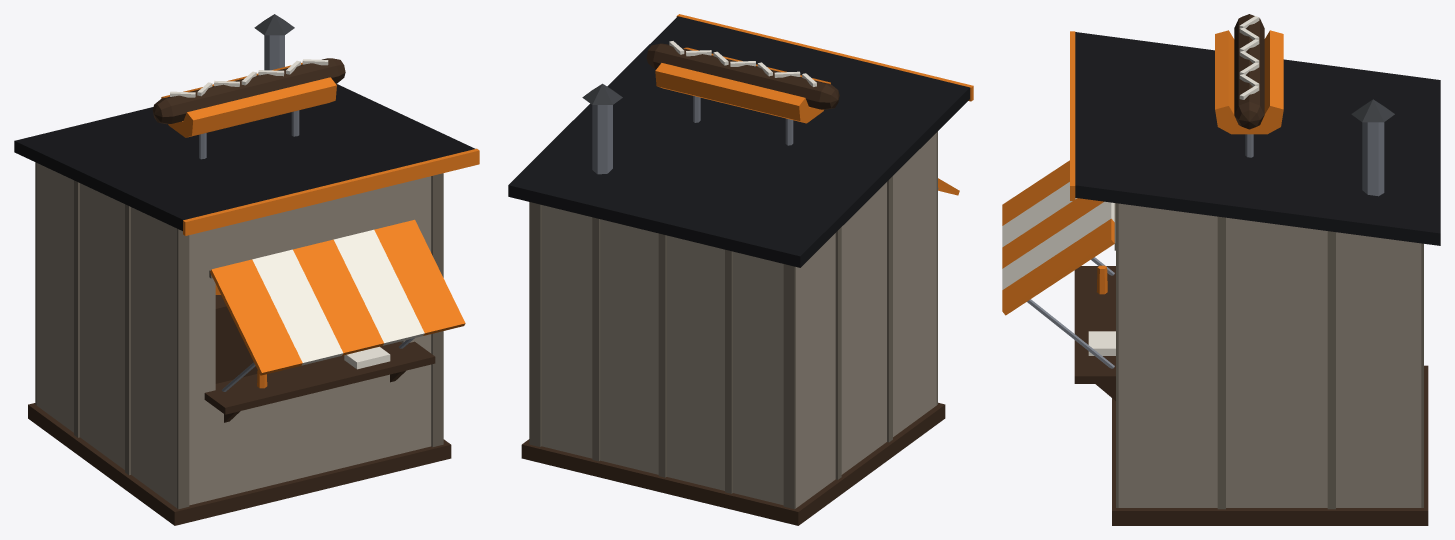
File: FoodStall02.fbx
3 renders of one model, left to right at view 1: azimuth 30°, elevation 25°; view 2: azimuth 150°, elevation 25°; view 3: azimuth 270°, elevation 25°, orthographic. The views are drawn at different scales.
Parts seen in each view (by area): view 1: FoodStall02_Festival_988E81, FoodStall02_Festival_151619, FoodStall02_Festival_ED7E1D, FoodStall02_Festival_3D2A1C, FoodStall02_Festival_F2EDE2, FoodStall02_Festival_70685C, FoodStall02_Festival_7D828C, FoodStall02_Festival_3A3C40; view 2: FoodStall02_Festival_988E81, FoodStall02_Festival_151619, FoodStall02_Festival_70685C, FoodStall02_Festival_3D2A1C, FoodStall02_Festival_ED7E1D, FoodStall02_Festival_7D828C, FoodStall02_Festival_F2EDE2, FoodStall02_Festival_3A3C40; view 3: FoodStall02_Festival_988E81, FoodStall02_Festival_151619, FoodStall02_Festival_3D2A1C, FoodStall02_Festival_ED7E1D, FoodStall02_Festival_70685C, FoodStall02_Festival_F2EDE2, FoodStall02_Festival_7D828C, FoodStall02_Festival_3A3C40.
Boxes of the visible parts, box(x1,y1,x2,y2) form: FoodStall02_Festival_988E81: box(36, 163, 431, 507); FoodStall02_Festival_151619: box(14, 84, 475, 230); FoodStall02_Festival_ED7E1D: box(161, 62, 479, 388); FoodStall02_Festival_3D2A1C: box(28, 58, 451, 525); FoodStall02_Festival_F2EDE2: box(170, 59, 424, 369); FoodStall02_Festival_70685C: box(35, 162, 443, 509); FoodStall02_Festival_7D828C: box(199, 35, 414, 391); FoodStall02_Festival_3A3C40: box(254, 14, 294, 35); FoodStall02_Festival_988E81: box(541, 133, 936, 507); FoodStall02_Festival_151619: box(508, 16, 969, 267); FoodStall02_Festival_70685C: box(529, 131, 937, 509); FoodStall02_Festival_3D2A1C: box(521, 43, 945, 525); FoodStall02_Festival_ED7E1D: box(655, 14, 973, 195); FoodStall02_Festival_7D828C: box(592, 96, 938, 188); FoodStall02_Festival_F2EDE2: box(669, 41, 816, 86); FoodStall02_Festival_3A3C40: box(582, 83, 622, 104); FoodStall02_Festival_988E81: box(1118, 203, 1421, 507); FoodStall02_Festival_151619: box(1075, 32, 1440, 245); FoodStall02_Festival_3D2A1C: box(1074, 14, 1428, 525); FoodStall02_Festival_ED7E1D: box(1002, 30, 1283, 315); FoodStall02_Festival_70685C: box(1114, 203, 1423, 509); FoodStall02_Festival_F2EDE2: box(1002, 16, 1259, 355); FoodStall02_Festival_7D828C: box(1027, 122, 1384, 368); FoodStall02_Festival_3A3C40: box(1351, 99, 1394, 122).
Bounding box in the file's own units: 2.66 × 3.19 × 3.19.
